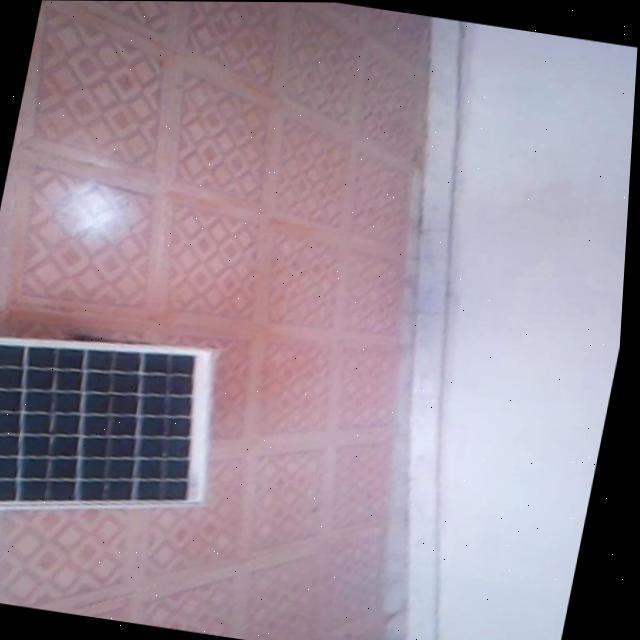Normal Solar Panel: (0, 315, 241, 553)
